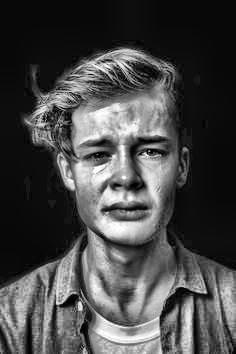Sad: (65, 92, 180, 242)
